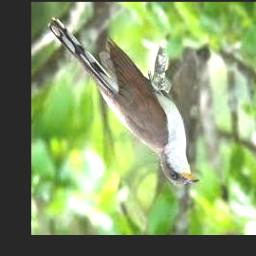Cuckoo: (47, 18, 199, 185)
